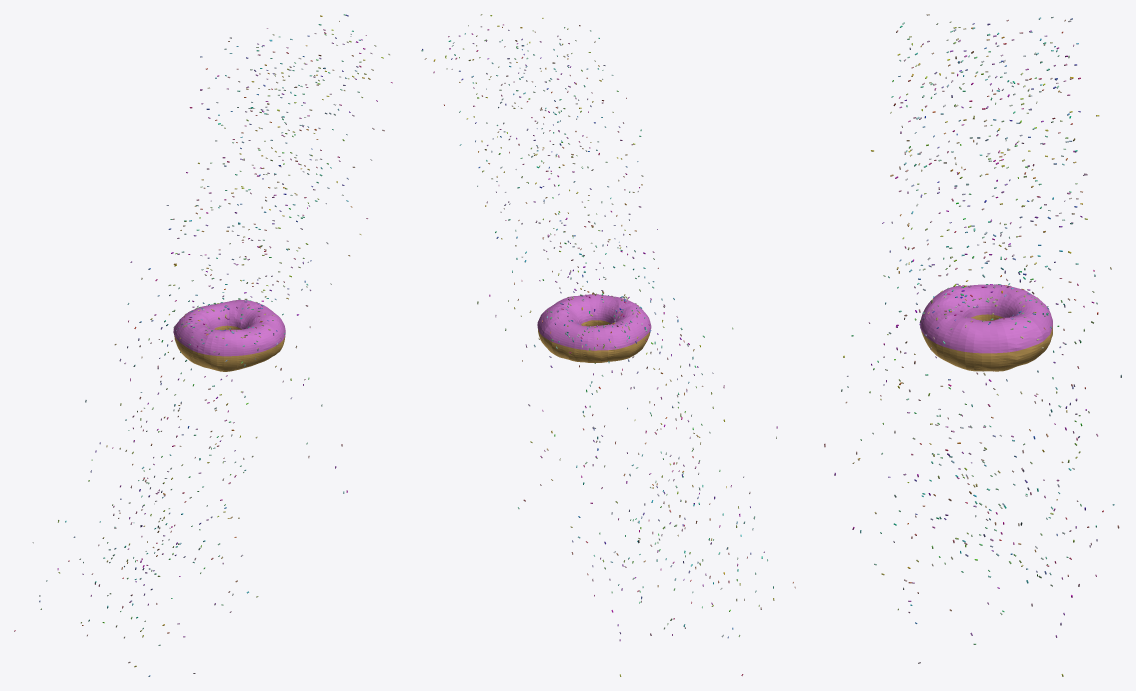
The picture shows the model from 3 angles, left to right: view 1: azimuth 30°, elevation 25°; view 2: azimuth 150°, elevation 25°; view 3: azimuth 270°, elevation 25°; orthographic projection. The views are drawn at different scales.
Visible parts, largest first — view 1: defaultobject, icing_top; view 2: defaultobject, icing_top; view 3: defaultobject, icing_top.
Part boxes in pixels (x1=…): defaultobject: x1=14, y1=14, x2=392, y2=676; icing_top: x1=173, y1=299, x2=285, y2=356; defaultobject: x1=421, y1=14, x2=795, y2=676; icing_top: x1=537, y1=294, x2=651, y2=350; defaultobject: x1=824, y1=14, x2=1121, y2=676; icing_top: x1=920, y1=284, x2=1052, y2=353.
Bounding box in the file's own units: 1.35 × 2.27 × 0.8606.
